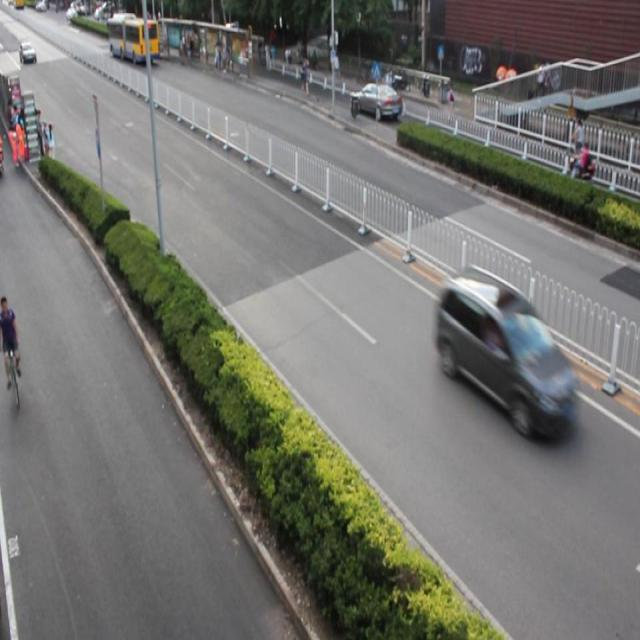car: (435, 267, 580, 443), (351, 81, 401, 122)
